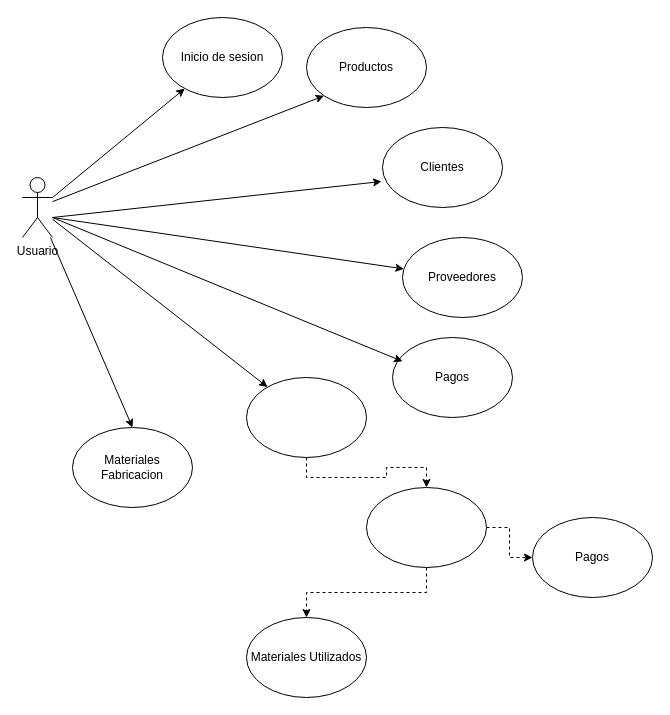
This 670x715 diagram has some shape labels left out. The shapes that lost their labels are listed below. From the top down, each one's centre as x and y in pixels, then its label:
(x=306, y=417): Pedido
(x=426, y=527): Detalle de pedido
